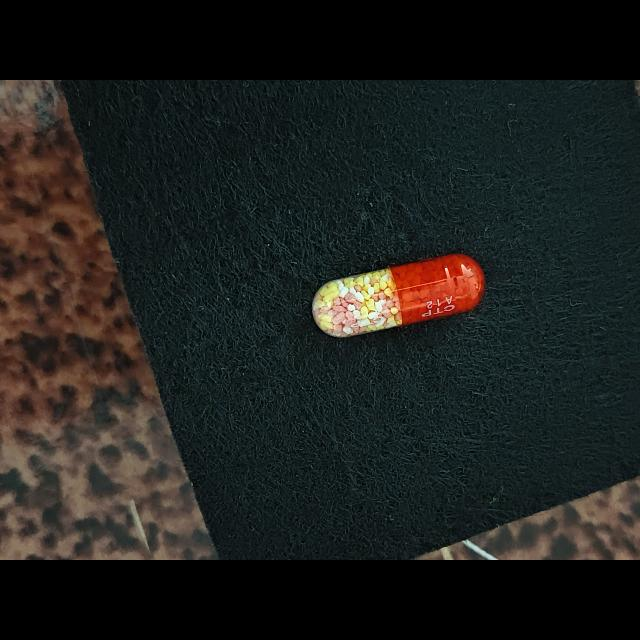Intact Capsule: (312, 254, 485, 337)
